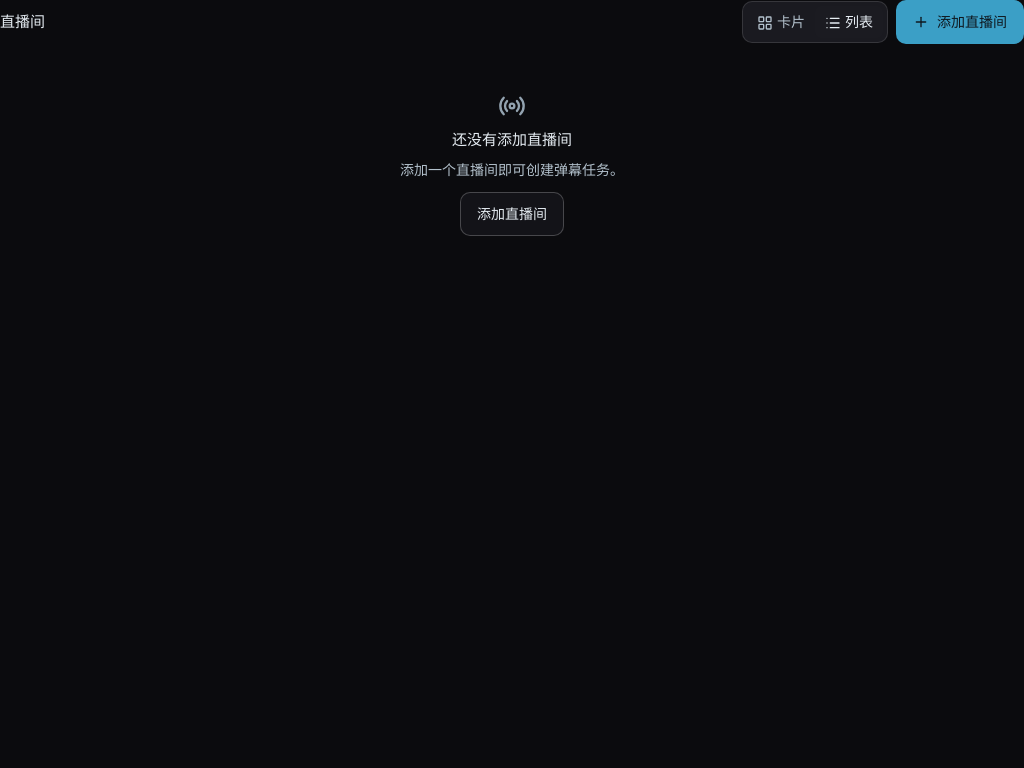
Scenario: moves focus to the room list after adding the first room from the empty state
Click the button "添加直播间" below "添加一个直播间即可创建弹幕任务。" at point(512, 214), box [460,192,564,236]
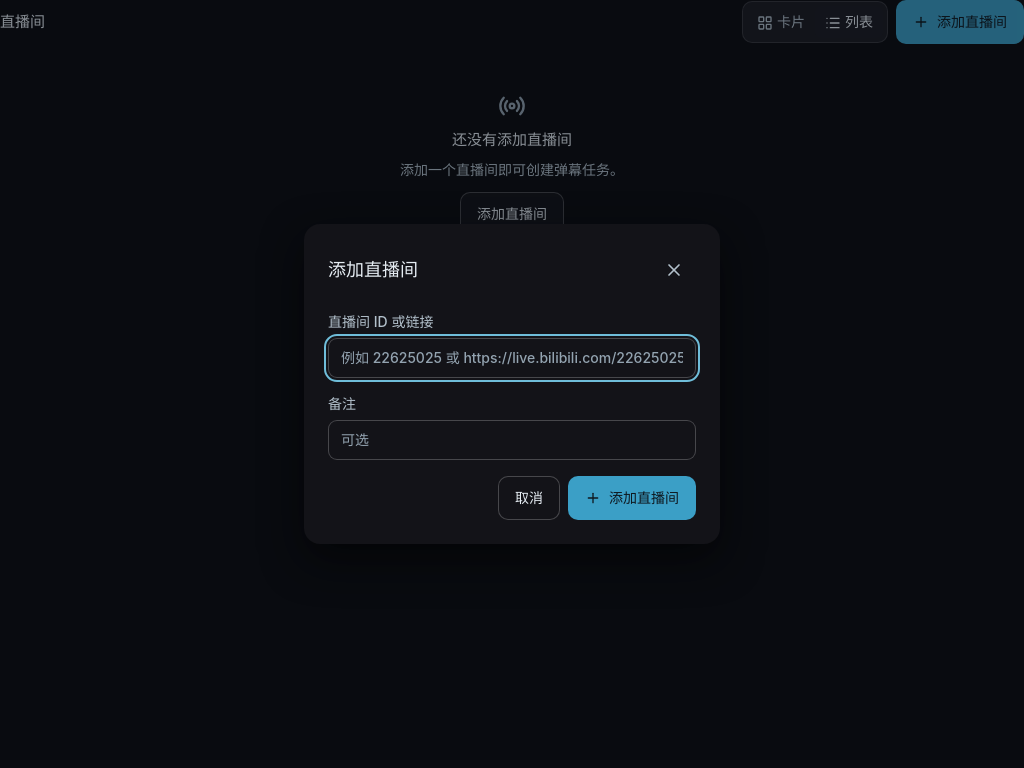
Type "700" into the field labelled "直播间 ID 或链接" at point(512, 358), box [328,338,696,378]
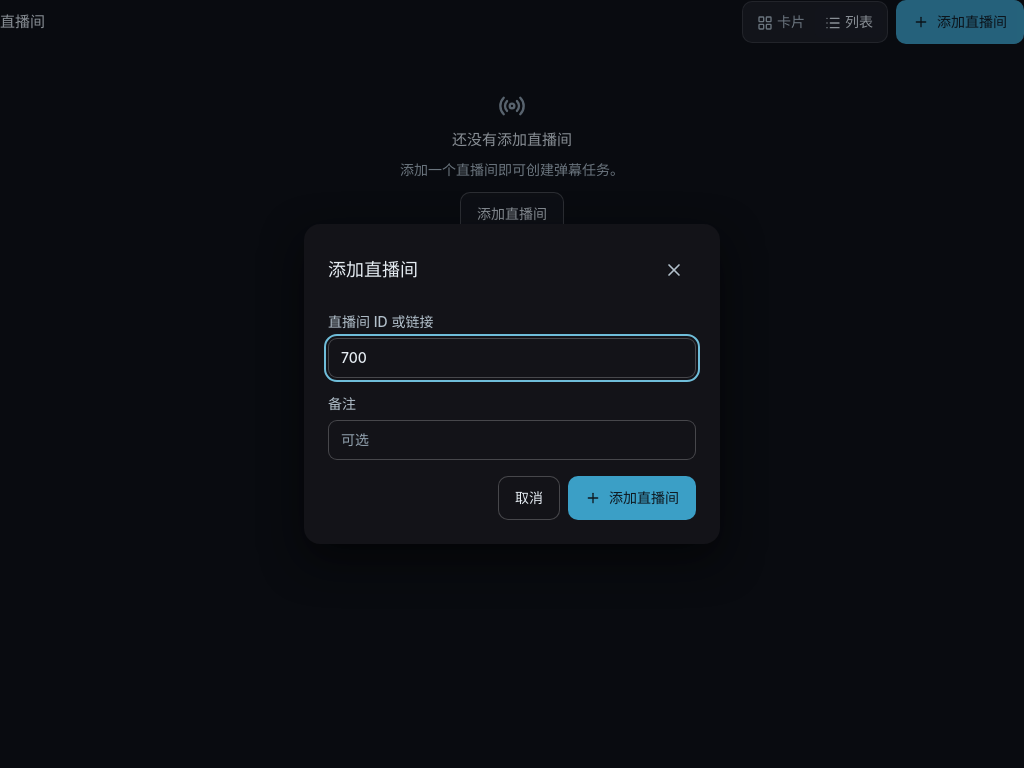
Click the button "添加直播间" at point(632, 498), box [568,476,696,520]
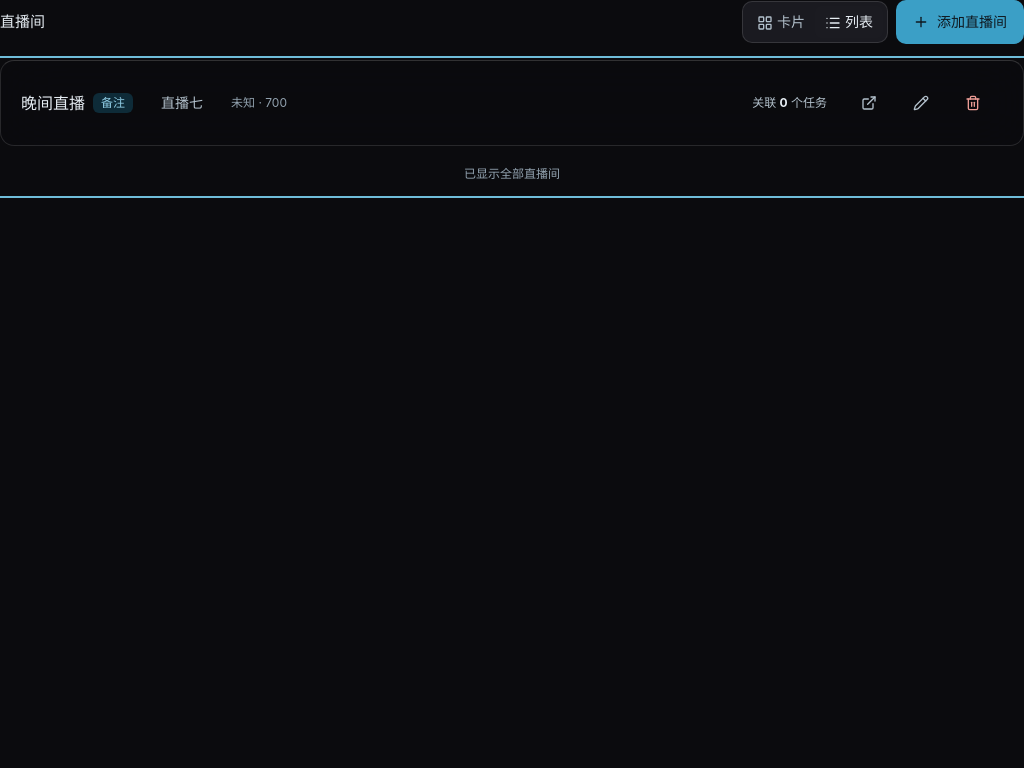
Expected: the dialog is gone
Expected: the heading "晚间直播" is shown, [21,91,85,115]
